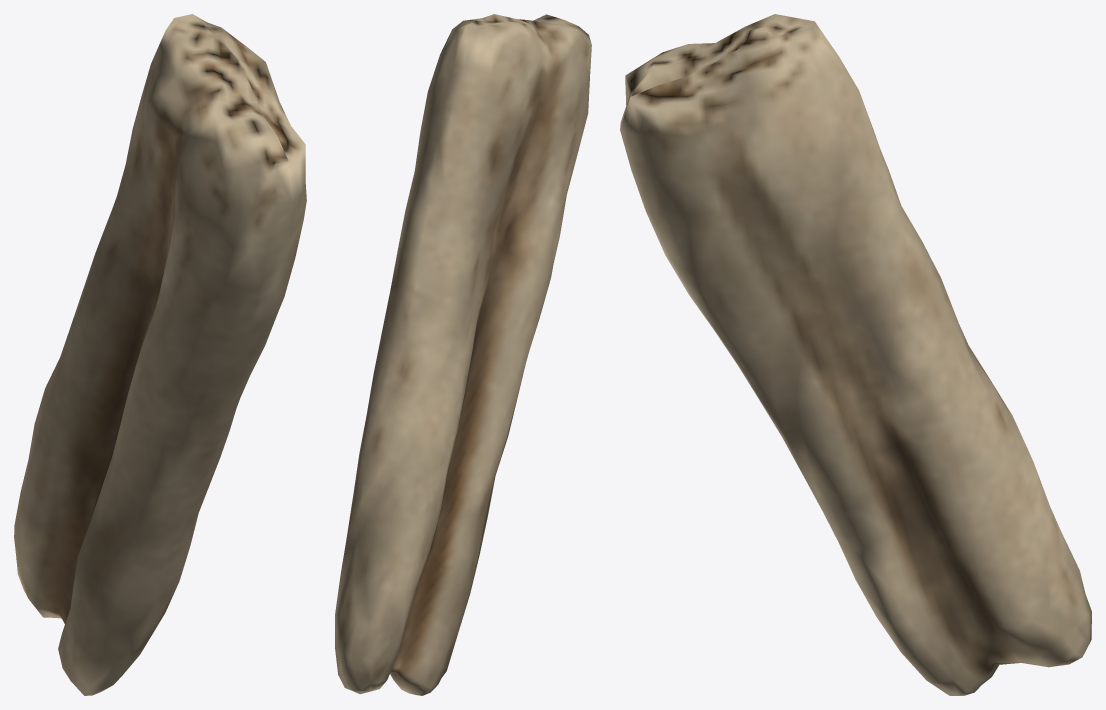
Rendered from Mandibular_Molar3.glb.
The picture shows the model from 3 angles, left to right: view 1: azimuth 30°, elevation 25°; view 2: azimuth 150°, elevation 25°; view 3: azimuth 270°, elevation 25°; orthographic projection. The views are drawn at different scales.
Visible parts, largest first — view 1: Group62019_Mesh.051; view 2: Group62019_Mesh.051; view 3: Group62019_Mesh.051.
Boxes of the visible parts, box(x1,y1,x2,y2) form: Group62019_Mesh.051: box(14, 14, 306, 695); Group62019_Mesh.051: box(335, 14, 591, 695); Group62019_Mesh.051: box(620, 14, 1091, 695).
Size of the model in its own units: 0.0158 by 0.0869 by 0.055.
1 material, 1 textured.
